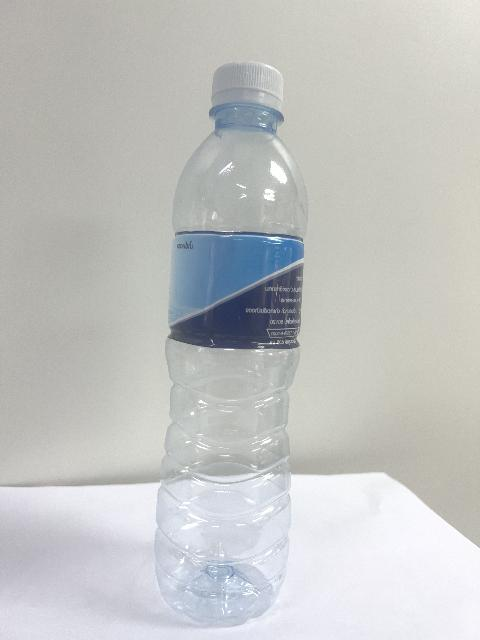bottle: (155, 62, 306, 625)
